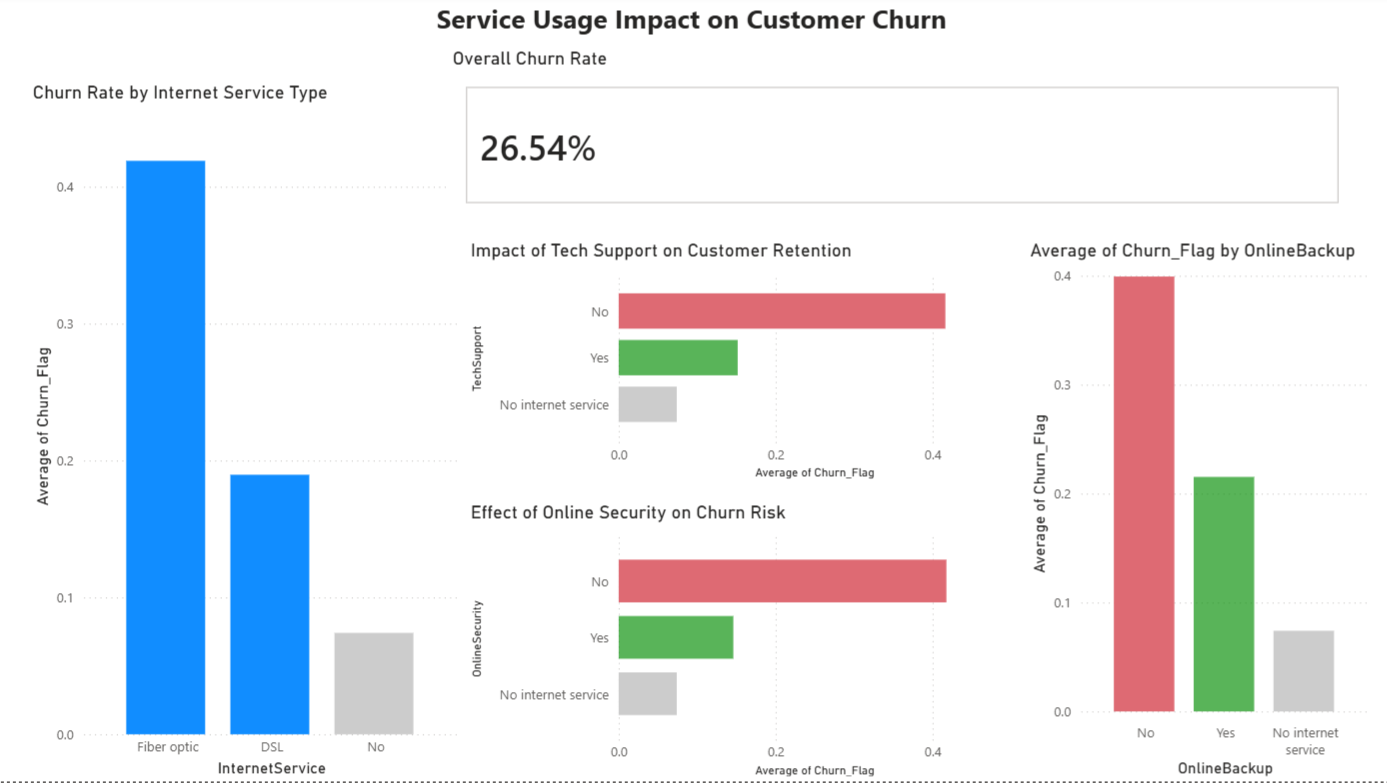

This screenshot's page, from the dashboard's own definition file:
{"tool":"powerbi","page":{"name":"Service Analysis","canvas":[1280,720],"ordinal":3},"visuals":[{"type":"textbox","box":[352,0,576,64],"z":0},{"type":"clusteredColumnChart","title":"Churn Rate by Internet Service Type","fields":{"Category":["WA_Fn-UseC_-Telco-Customer-Churn.InternetService"],"Y":["Avg(WA_Fn-UseC_-Telco-Customer-Churn.Churn_Flag)"]},"box":[32,80,400,640],"z":1000},{"type":"clusteredBarChart","title":"Impact of Tech Support on Customer Retention","fields":{"Category":["WA_Fn-UseC_-Telco-Customer-Churn.TechSupport"],"Y":["Avg(WA_Fn-UseC_-Telco-Customer-Churn.Churn_Flag)"]},"box":[432,224,512,224],"z":2000},{"type":"clusteredBarChart","title":"Effect of Online Security on Churn Risk","fields":{"Category":["WA_Fn-UseC_-Telco-Customer-Churn.OnlineSecurity"],"Y":["Avg(WA_Fn-UseC_-Telco-Customer-Churn.Churn_Flag)"]},"box":[432,464,512,256],"z":3000},{"type":"clusteredColumnChart","fields":{"Category":["WA_Fn-UseC_-Telco-Customer-Churn.OnlineBackup"],"Y":["Avg(WA_Fn-UseC_-Telco-Customer-Churn.Churn_Flag)"]},"box":[944,224,320,496],"z":4000},{"type":"cardVisual","title":"Overall Churn Rate","fields":{"Data":["Avg(WA_Fn-UseC_-Telco-Customer-Churn.Churn_Flag)"]},"box":[416,48,832,160],"z":5000}]}

Visuals, with their boxes in screenshot pixels (x1, y1, x2, y2), scaled from the page's 1280x720 canvas onto the 1387x783 screenshot:
textbox: crop(381, 0, 1006, 70)
"Churn Rate by Internet Service Type" clusteredColumnChart: crop(35, 87, 468, 782)
"Impact of Tech Support on Customer Retention" clusteredBarChart: crop(468, 244, 1023, 487)
"Effect of Online Security on Churn Risk" clusteredBarChart: crop(468, 505, 1023, 782)
clusteredColumnChart - WA_Fn-UseC_-Telco-Customer-Churn.OnlineBackup x Avg(WA_Fn-UseC_-Telco-Customer-Churn.Churn_Flag): crop(1023, 244, 1370, 782)
"Overall Churn Rate" cardVisual: crop(451, 52, 1352, 226)
